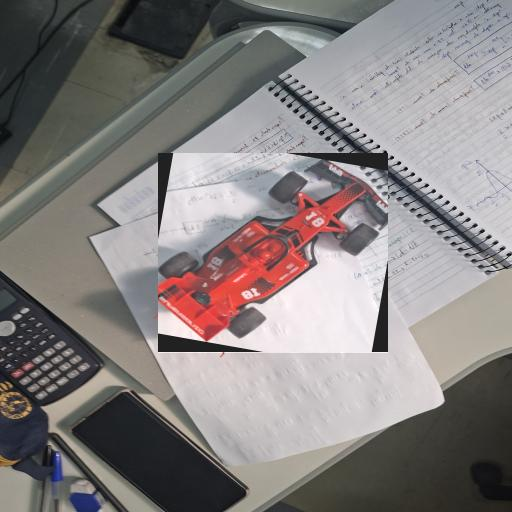carro: (158, 154, 387, 353)
